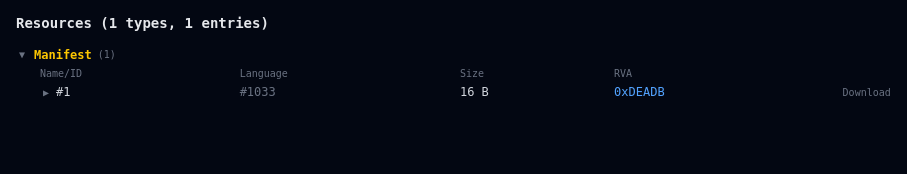
ResourcesView — leaf previews › says the RVA falls in no section, rather than rendering an empty box
Step 1. Click the button named "▶#1" → [55, 92], box [40,84,70,100]
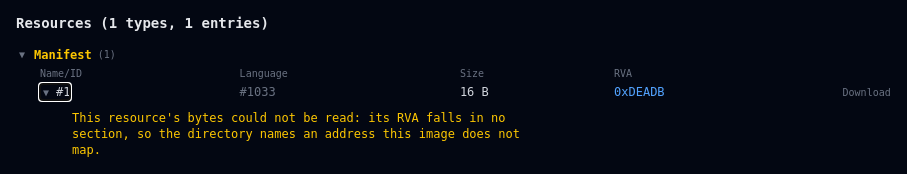
Expected: the 3rd row shows "its RVA falls in no section", [72,111,520,157]
